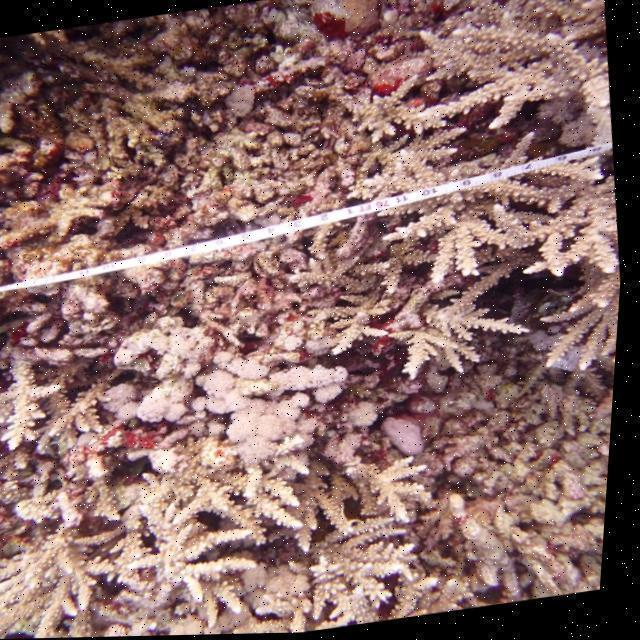Healthy Coral: (368, 14, 640, 356)
